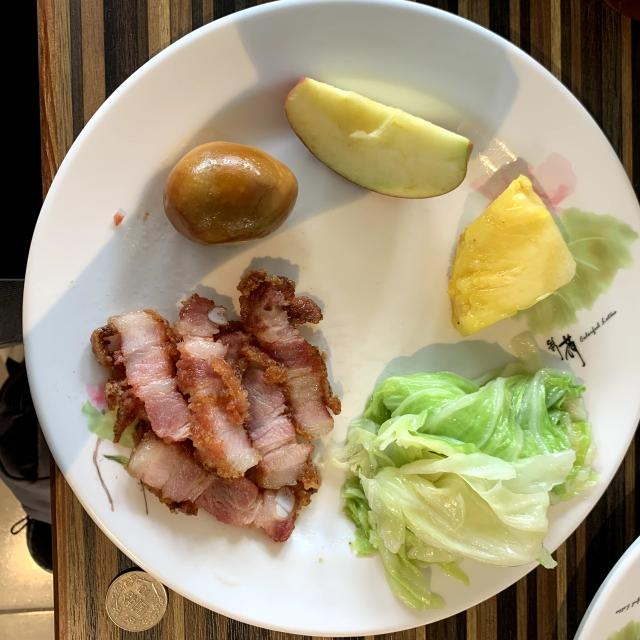apple -sliced-: (285, 78, 472, 199)
cabbage: (342, 364, 599, 609)
coin: (106, 569, 168, 631)
pineapple: (448, 175, 576, 336)
red grilled pork: (90, 270, 340, 541)
soy egg: (164, 141, 299, 245)
